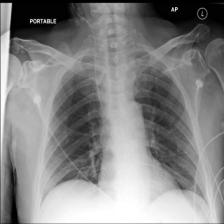normal: (33, 39, 212, 214)
